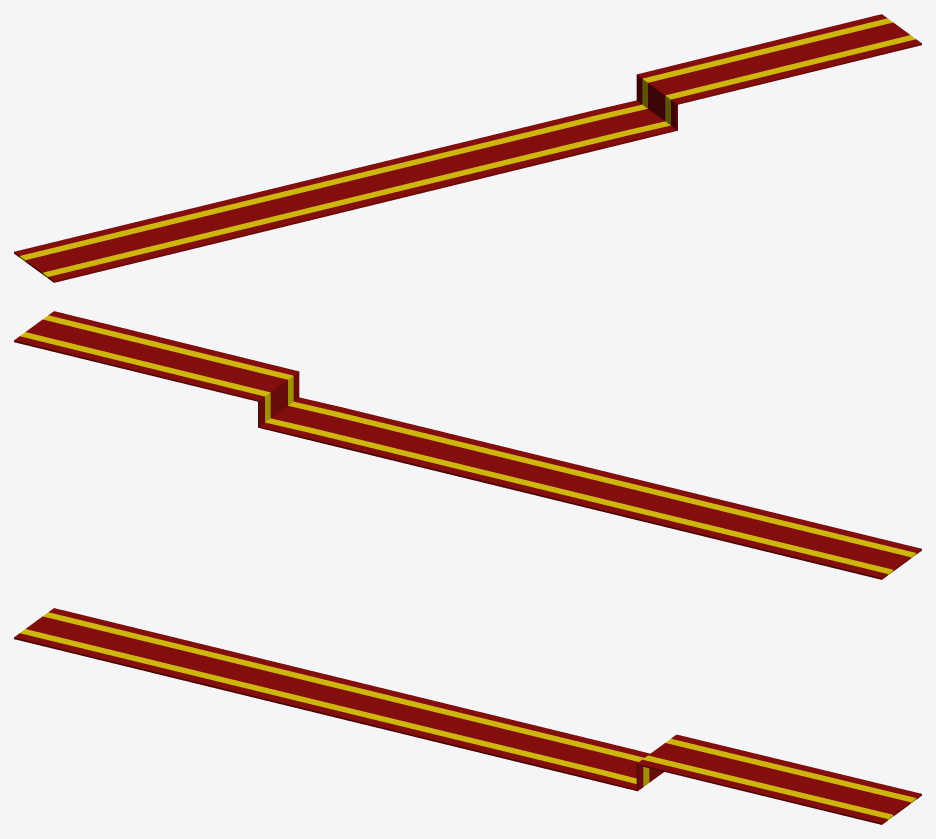
Rendered from church carpet.fbx.
The picture shows the model from 3 angles, top to bottom: view 1: azimuth 30°, elevation 25°; view 2: azimuth 150°, elevation 25°; view 3: azimuth 330°, elevation 25°; orthographic projection.
Visible parts, largest first — view 1: carpet; view 2: carpet; view 3: carpet.
Boxes of the visible parts, x1,y1,x2,y2 form: carpet: [14, 14, 921, 282]; carpet: [14, 311, 921, 579]; carpet: [14, 608, 921, 824].
Size of the model in its own units: 5609 by 171 by 449.
